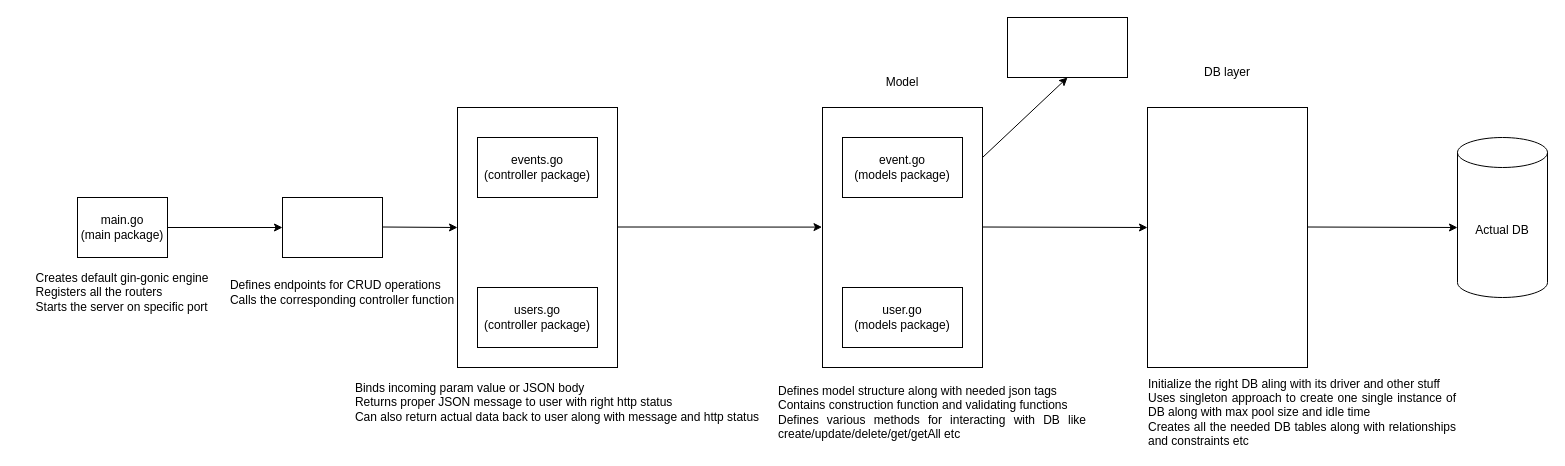
The diagram is 1565 pixels wide and 466 high, and some of its shapes have lost their labels. The shapes that lost their labels are listed below. From the top down, each one's centre as x and y in pixels, then its label:
At point 1067,47: "utils.go (utils package)".
At point 332,227: "routes.go (routes package)".
At point 1227,237: "db.go".
